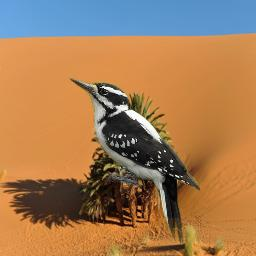Woodpecker: (68, 73, 200, 246)
